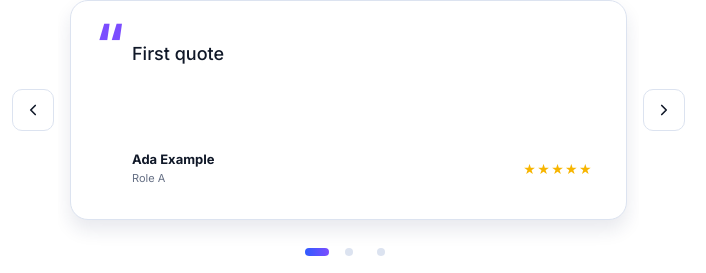
Scenario: navigation is ignored while a slide is still moving, so cards never jump mid-animation
Click the button named "Next testimonial" at (664, 110), box [643,89,685,131]
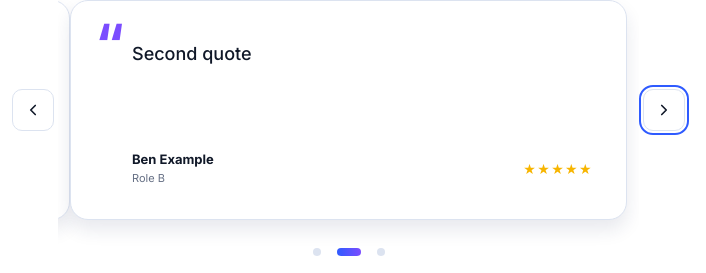
Click the button named "Next testimonial" at (664, 110), box [643,89,685,131]
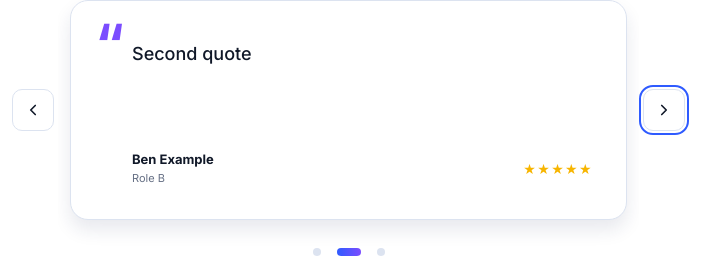
Expected: the text "Third quote" is not shown
Result: the text "Second quote" is shown at [132,43,252,64]
Click the button named "Next testimonial" at (664, 110), box [643,89,685,131]
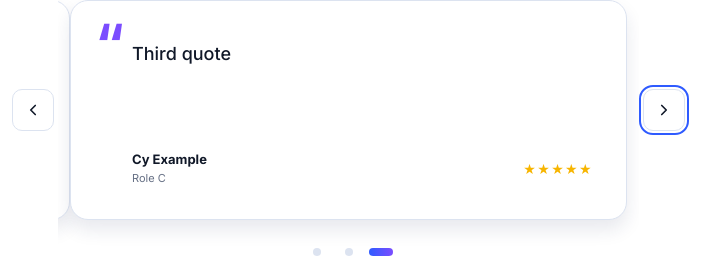
Result: the text "Third quote" is shown at [132,43,231,64]
